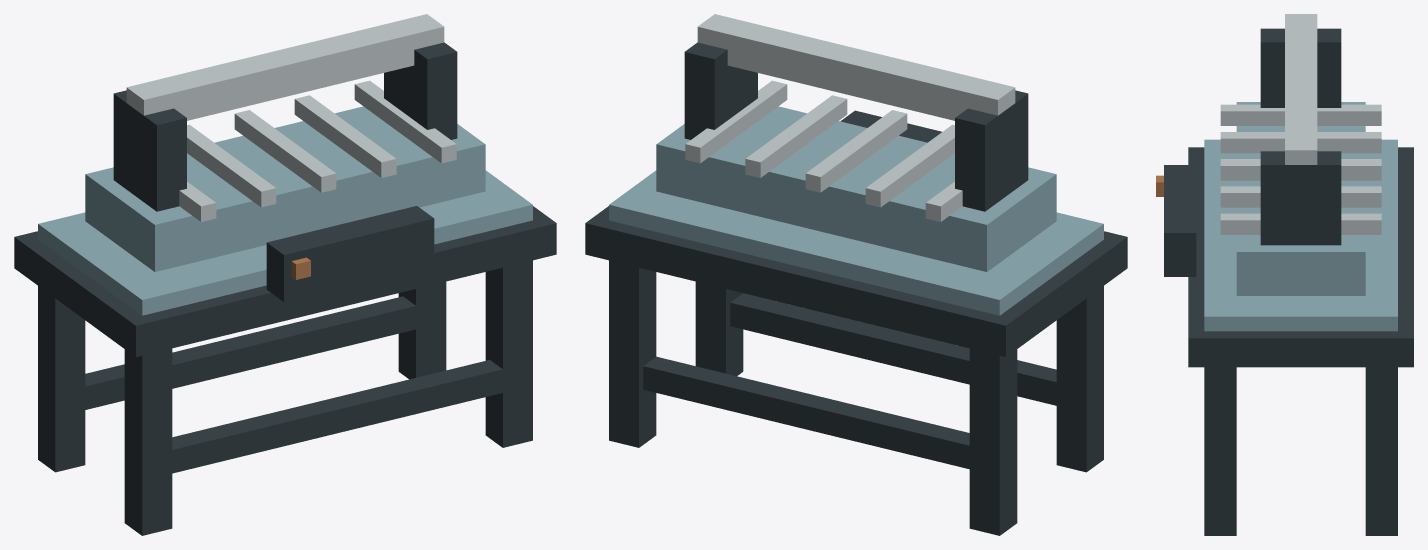
Rendered from precision_bench.glb.
The picture shows the model from 3 angles, left to right: view 1: azimuth 30°, elevation 25°; view 2: azimuth 150°, elevation 25°; view 3: azimuth 270°, elevation 25°; orthographic projection. The views are drawn at different scales.
Parts seen in each view (by area): view 1: precision_bench/work_surface, precision_bench/frame; view 2: precision_bench/work_surface, precision_bench/frame; view 3: precision_bench/work_surface, precision_bench/frame.
Part boxes in pixels (<box>): precision_bench/work_surface: <box>38,14,532,315</box>; precision_bench/frame: <box>14,206,556,535</box>; precision_bench/work_surface: <box>609,14,1103,315</box>; precision_bench/frame: <box>585,206,1127,535</box>; precision_bench/work_surface: <box>1156,14,1397,331</box>; precision_bench/frame: <box>1188,147,1413,535</box>.
Size of the model in its own units: 1.75 by 1.56 by 1.
